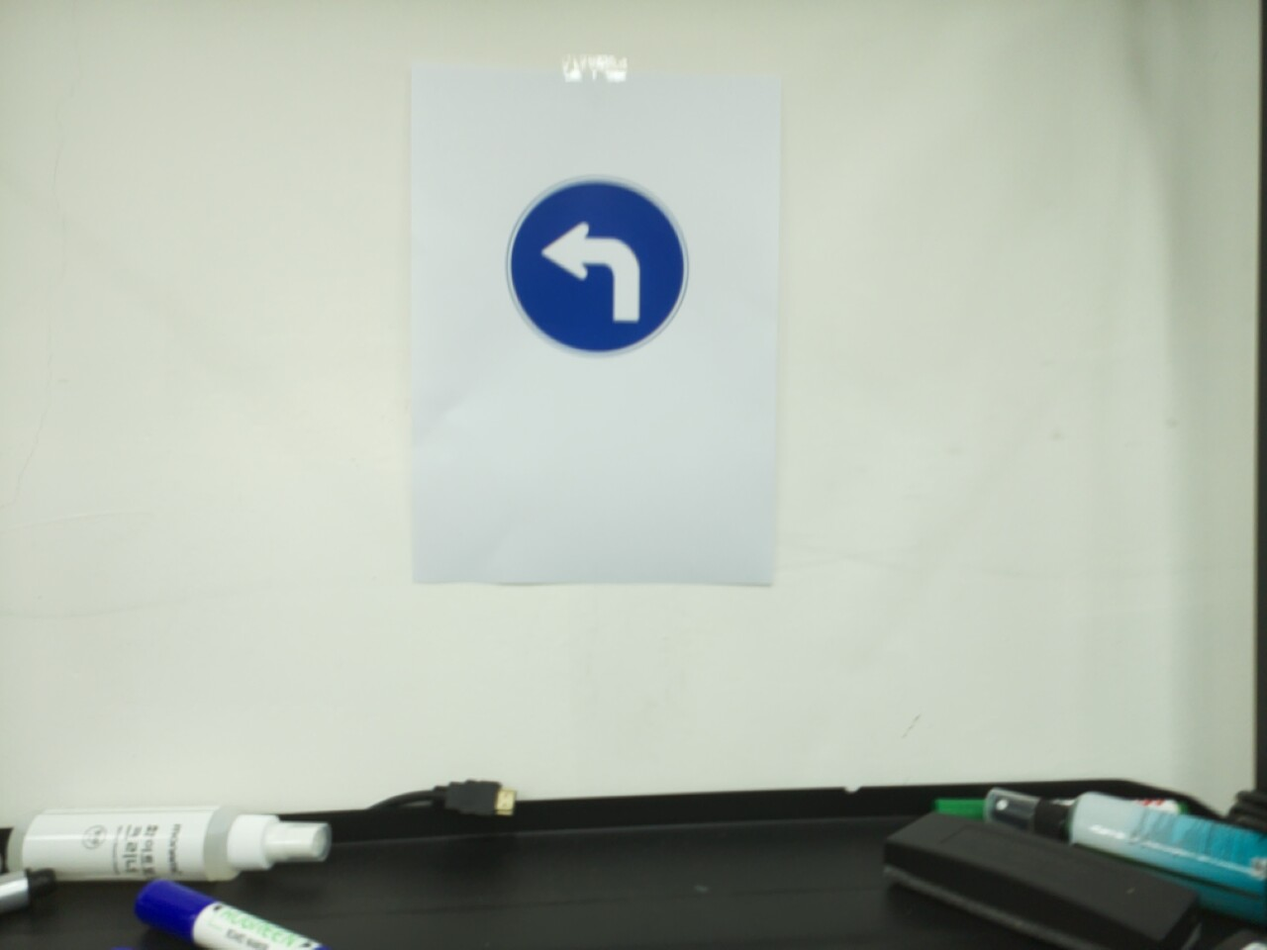left_turn: (504, 175, 691, 359)
